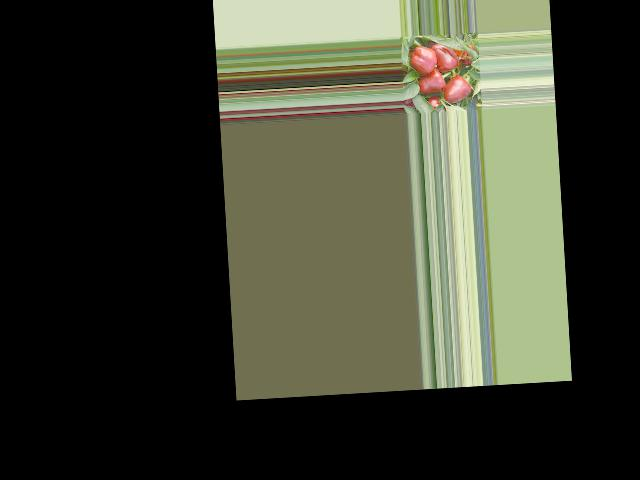bell_pepper: (409, 42, 438, 81)
